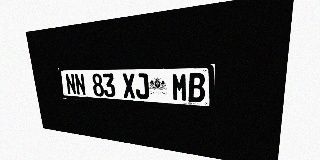3: (102, 73, 116, 97)
8: (91, 73, 104, 97)
B: (188, 73, 205, 103)
J: (135, 73, 149, 99)
M: (172, 73, 188, 102)
N: (74, 74, 86, 96), (65, 74, 77, 95)
X: (122, 73, 136, 99)
